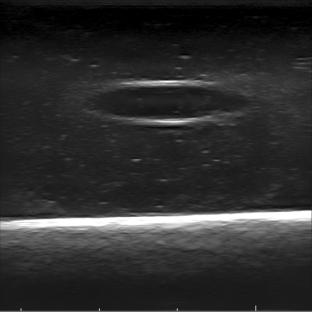vessel: (98, 79, 249, 126)
